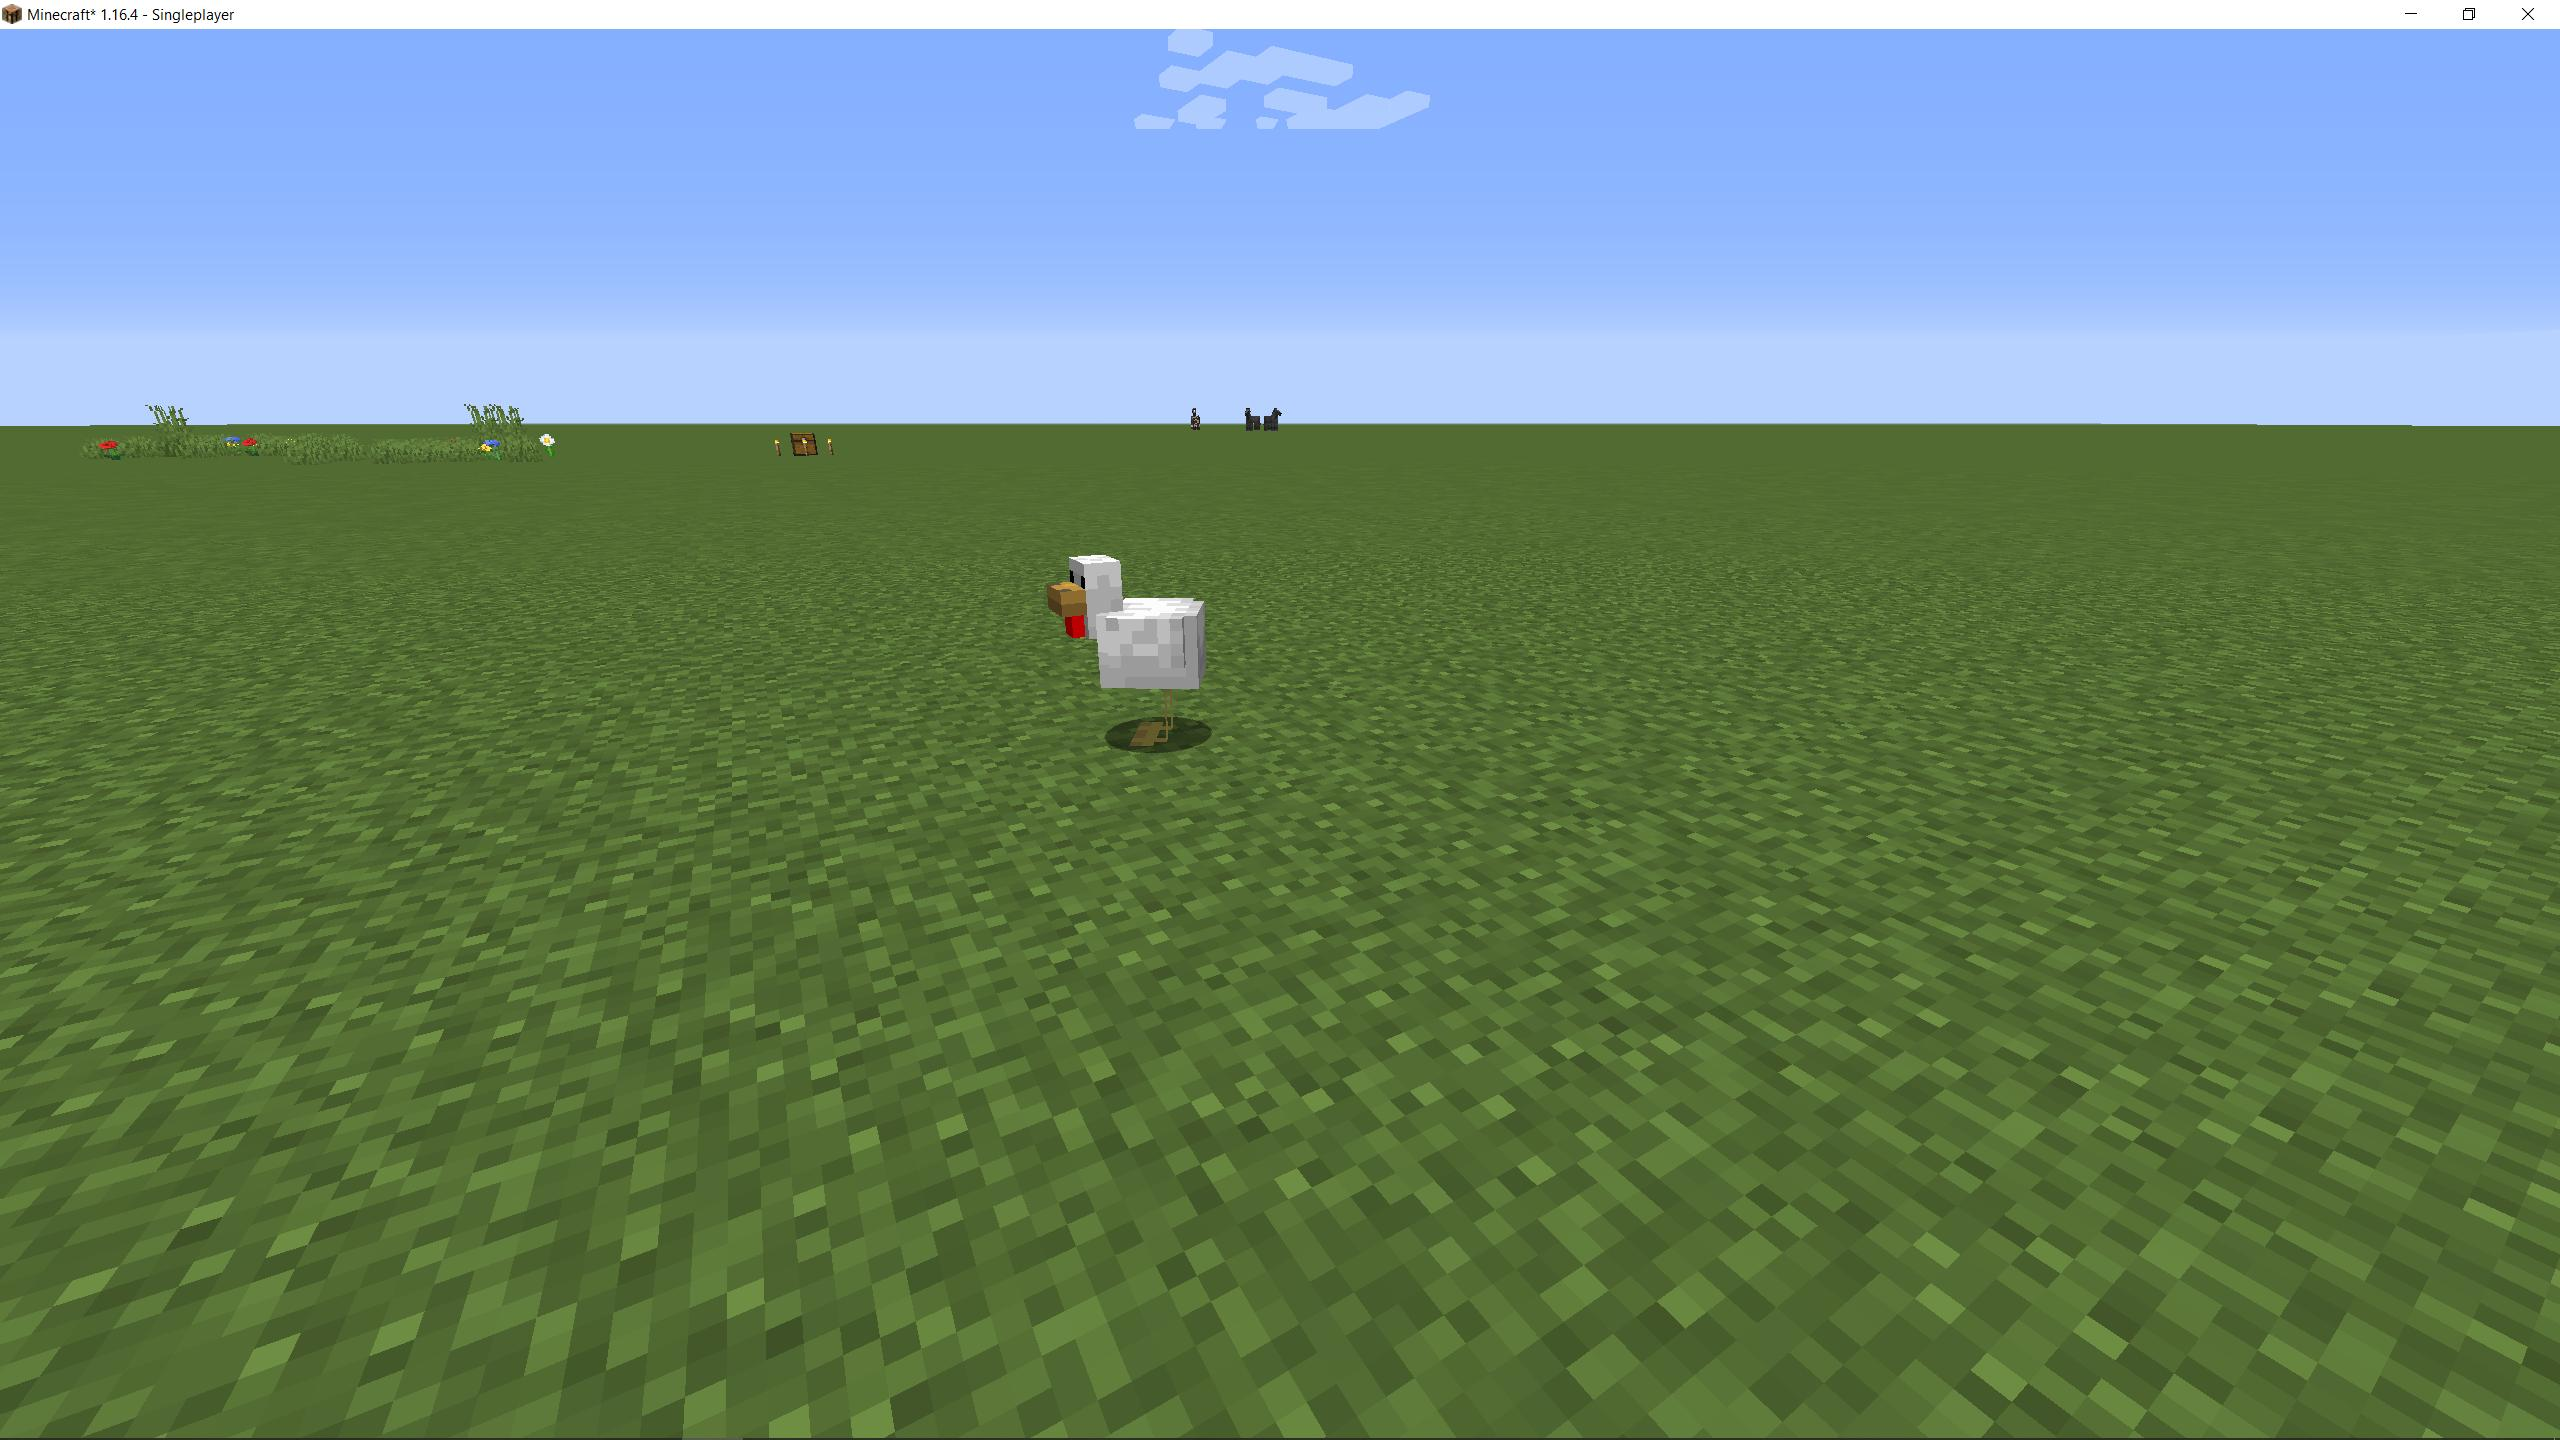chicken: (1046, 549, 1206, 753)
